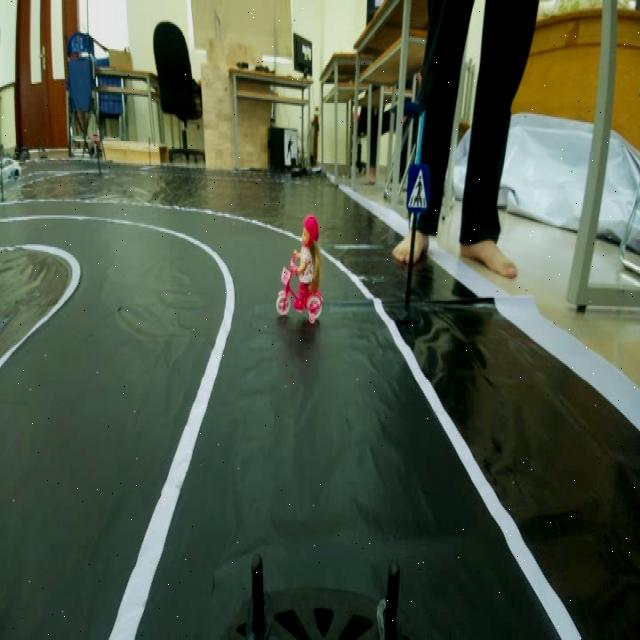crosswalk: (405, 158, 433, 213)
pedestrian: (274, 218, 334, 327)
